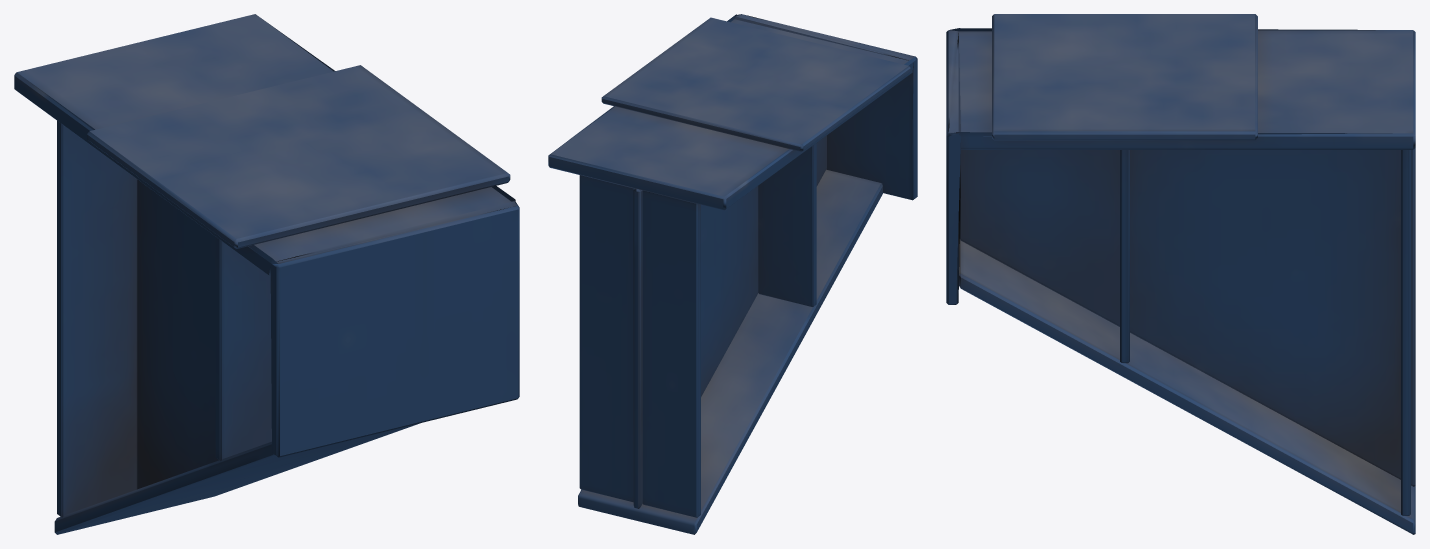
The model's file is Column_Bracket.fbx.
The picture shows the model from 3 angles, left to right: view 1: azimuth 30°, elevation 25°; view 2: azimuth 150°, elevation 25°; view 3: azimuth 270°, elevation 25°; orthographic projection. The views are drawn at different scales.
Visible parts, largest first — view 1: Column_Bracket_LOD0; view 2: Column_Bracket_LOD0; view 3: Column_Bracket_LOD0.
Part boxes in pixels (left/top/right/bottom): Column_Bracket_LOD0: left=14, top=14, right=519, bottom=534; Column_Bracket_LOD0: left=548, top=14, right=917, bottom=534; Column_Bracket_LOD0: left=946, top=14, right=1415, bottom=534.
Size of what is drawn, in the model's own units: 0.34 by 0.5685 by 0.565.
1 material, 1 textured.
